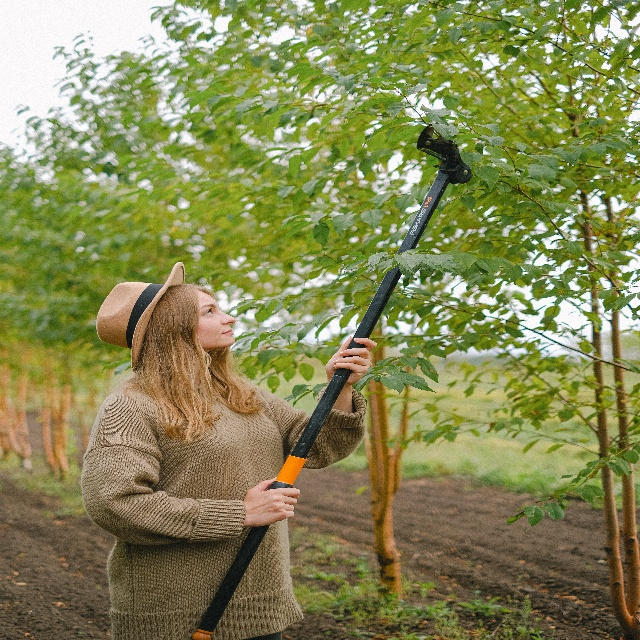Sin_guantes: (242, 474, 301, 528), (324, 333, 377, 386)
